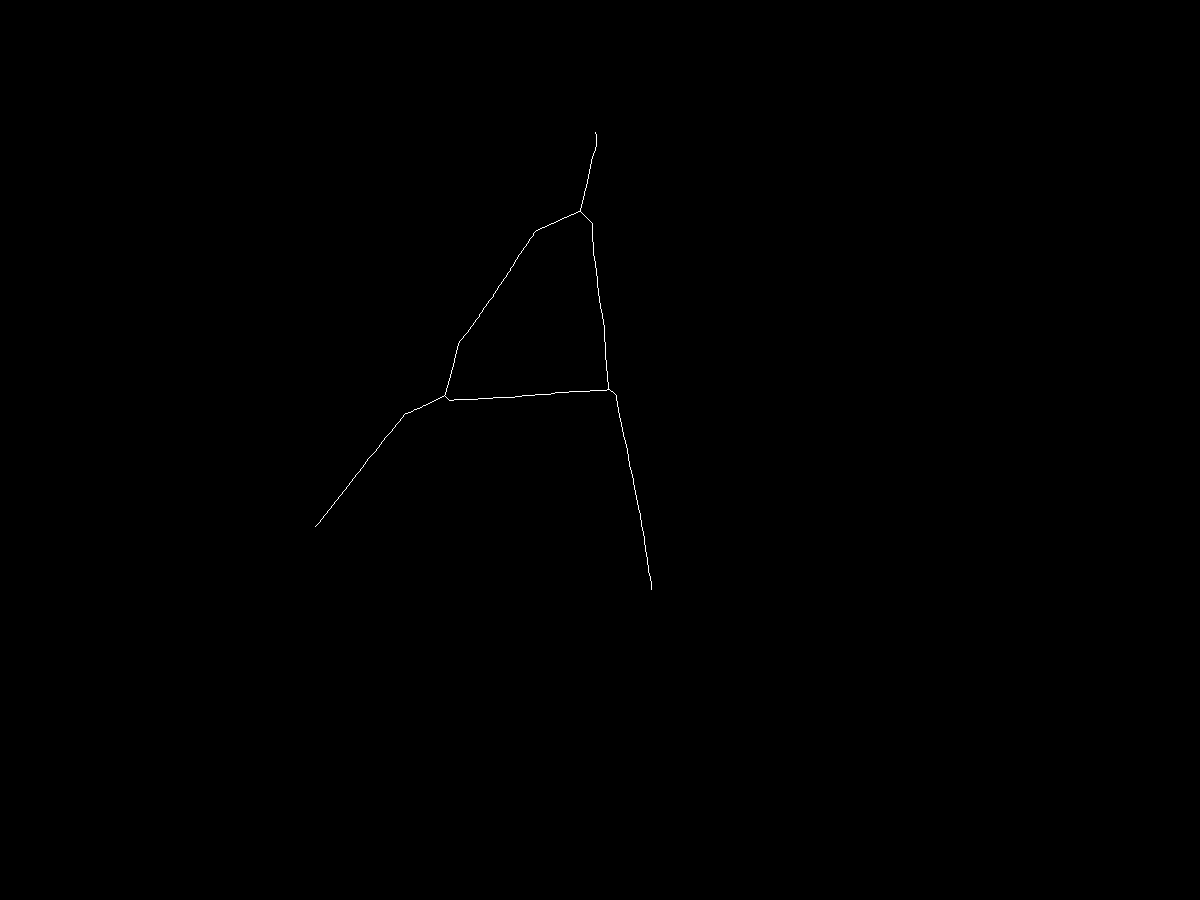dian1: (573, 209, 587, 223)
dian2: (439, 388, 455, 404)
dian3: (312, 516, 335, 539)
dian4: (603, 383, 616, 396)
dian5: (646, 575, 664, 593)
